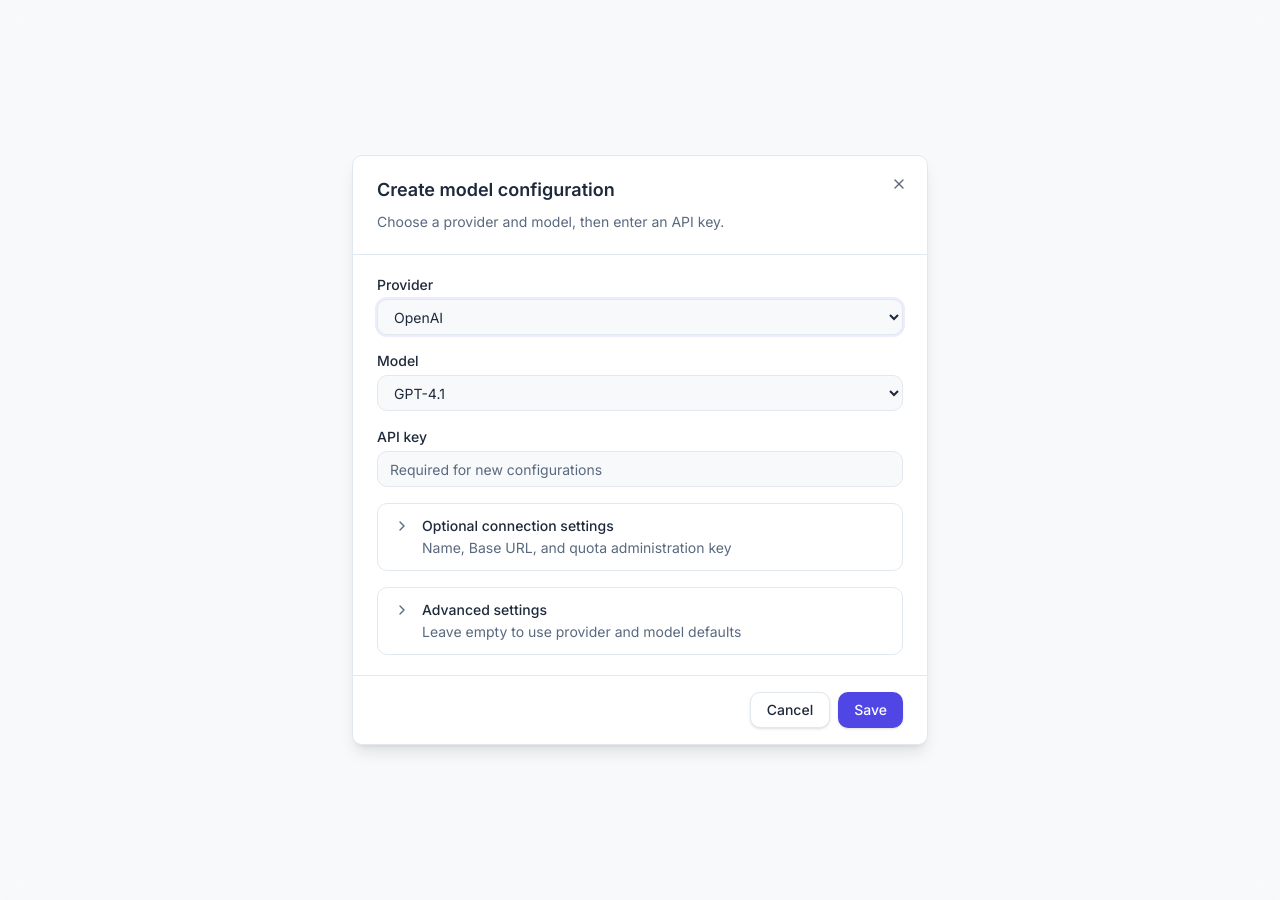
ModelConfigDialog › shows a missing API key error at the field and focuses it
Step 1. Click the button "Save" → click(871, 710), box [838,692,903,728]
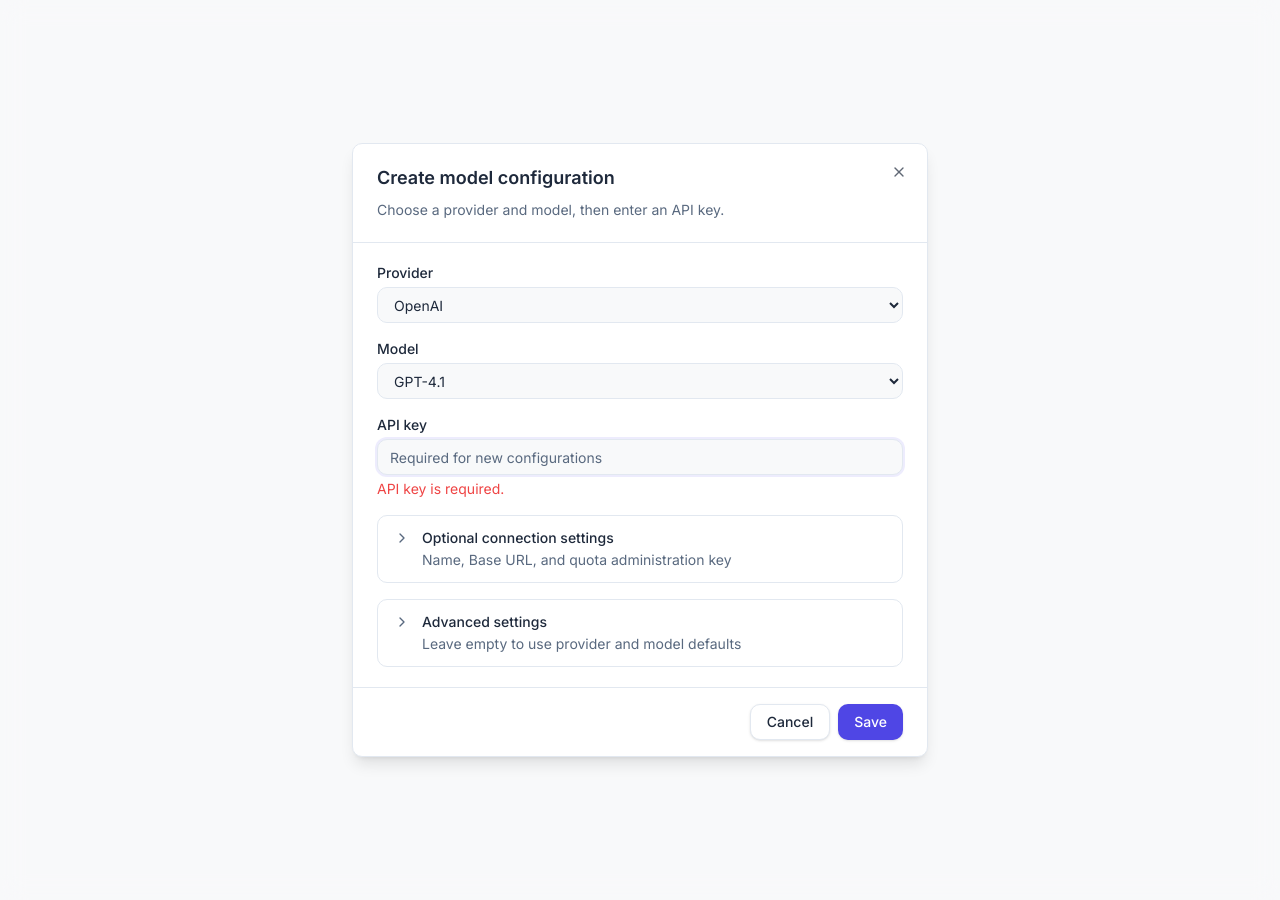
Expected: the message shows "API key", [377,480,504,497]
